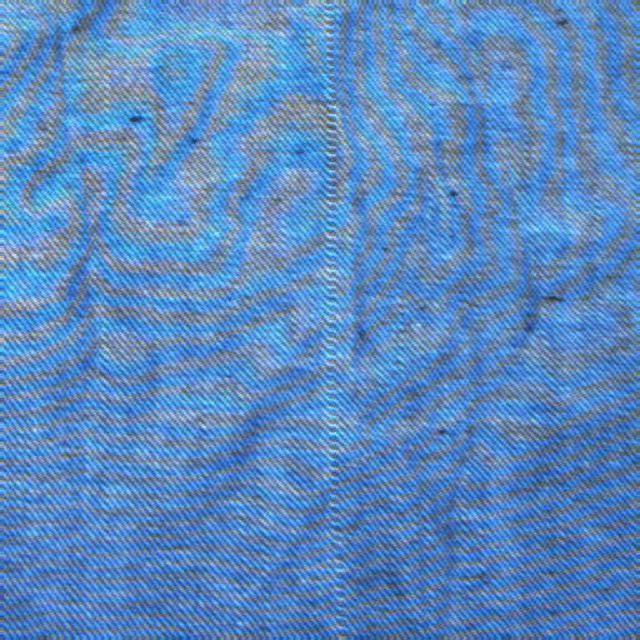defect: (326, 13, 342, 640)
